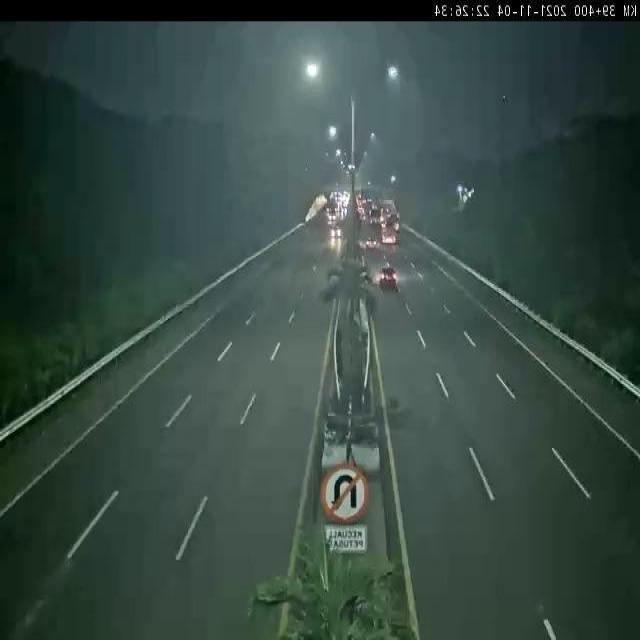Car: (369, 260, 405, 296)
Truck: (377, 213, 401, 247)
